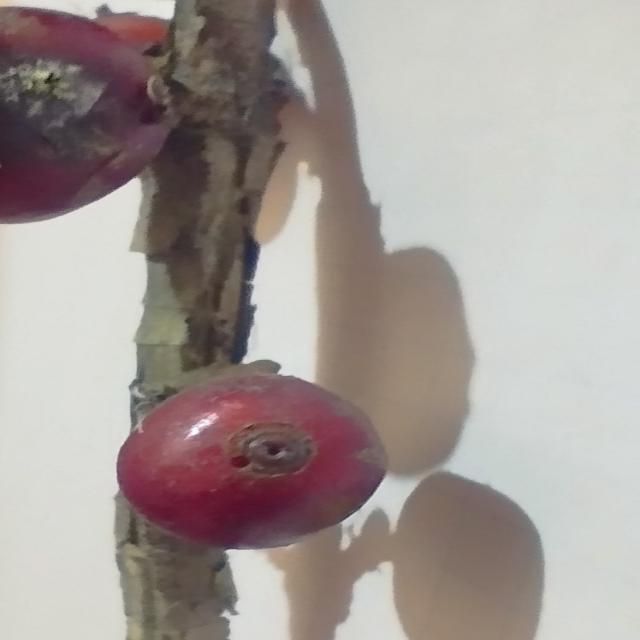Infectado: (116, 364, 391, 553)
